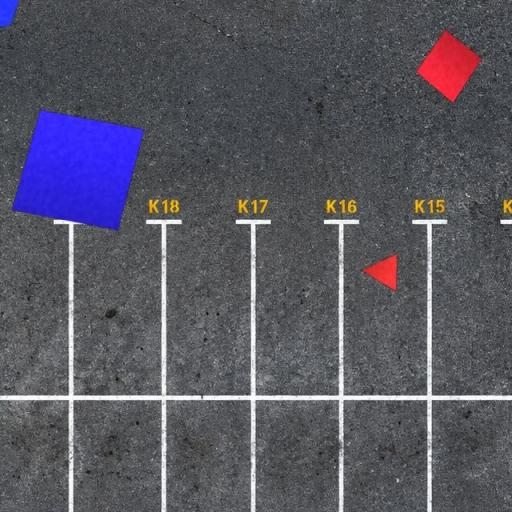BLUE_SQUARE: (11, 109, 146, 231)
RED_SQUARE: (416, 29, 482, 104)
